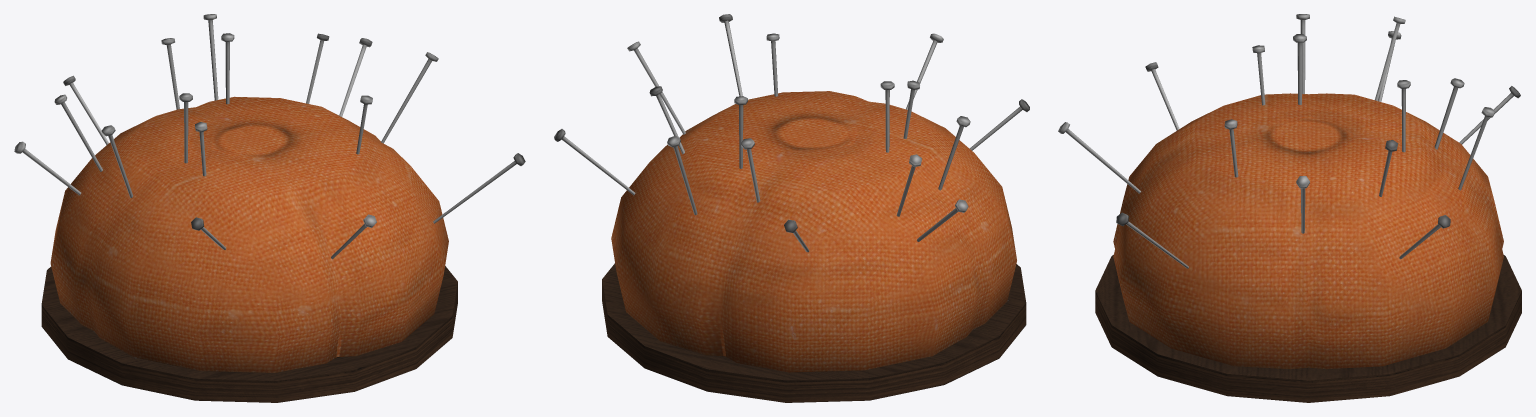
File: pin_cushion_01.fbx
3 views of the same model, side by side, from view 1: azimuth 30°, elevation 25°; view 2: azimuth 150°, elevation 25°; view 3: azimuth 270°, elevation 25° (orthographic).
Visible parts, largest first — view 1: pin_cushion_01, pin_cushion_01.005, pin_cushion_01.006, pin_cushion_01.008; view 2: pin_cushion_01, pin_cushion_01.007, pin_cushion_01.006, pin_cushion_01.005, pin_cushion_01.008, pin_cushion_01.013, pin_cushion_01.014; view 3: pin_cushion_01, pin_cushion_01.004, pin_cushion_01.008, pin_cushion_01.005, pin_cushion_01.009, pin_cushion_01.012, pin_cushion_01.014.
Part boxes in pixels (box(x1,y1,x2,y2)): pin_cushion_01: box(41, 96, 457, 402); pin_cushion_01.005: box(433, 153, 525, 223); pin_cushion_01.006: box(381, 52, 438, 143); pin_cushion_01.008: box(203, 14, 218, 100); pin_cushion_01: box(602, 91, 1026, 402); pin_cushion_01.007: box(554, 129, 635, 195); pin_cushion_01.006: box(627, 41, 685, 134); pin_cushion_01.005: box(719, 14, 742, 96); pin_cushion_01.008: box(667, 135, 697, 215); pin_cushion_01.013: box(938, 116, 970, 190); pin_cushion_01.014: box(880, 81, 894, 152); pin_cushion_01: box(1095, 93, 1521, 402); pin_cushion_01.004: box(1058, 122, 1140, 193); pin_cushion_01.008: box(1458, 107, 1495, 190); pin_cushion_01.005: box(1116, 212, 1188, 268); pin_cushion_01.009: box(1434, 78, 1464, 149); pin_cushion_01.012: box(1375, 16, 1405, 100); pin_cushion_01.014: box(1293, 34, 1306, 104).
Bounding box in the file's own units: 44.14 × 26.46 × 45.87.
